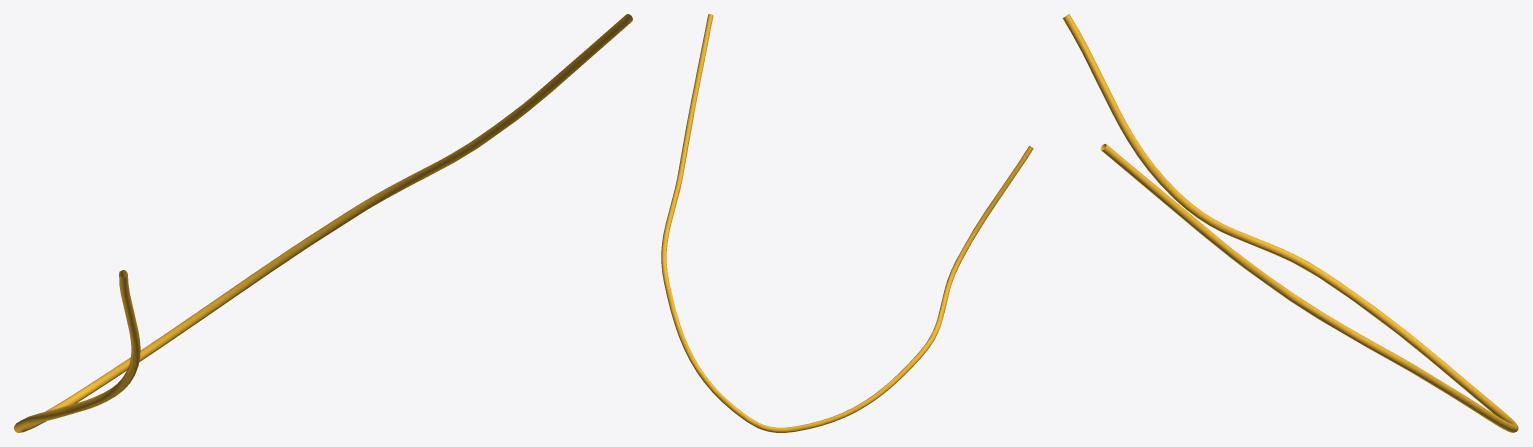
The model's file is nervoso-superior-lateral-brachial-cutaneous-nerve-l.glb.
3 views of the same model, side by side, from view 1: azimuth 30°, elevation 25°; view 2: azimuth 150°, elevation 25°; view 3: azimuth 270°, elevation 25° (orthographic). The views are drawn at different scales.
Visible parts, largest first — view 1: Superior lateral brachial cutaneous nerve.l; view 2: Superior lateral brachial cutaneous nerve.l; view 3: Superior lateral brachial cutaneous nerve.l.
Boxes of the visible parts, <box> form: Superior lateral brachial cutaneous nerve.l: <box>14,14,632,432</box>; Superior lateral brachial cutaneous nerve.l: <box>661,14,1033,432</box>; Superior lateral brachial cutaneous nerve.l: <box>1062,14,1518,432</box>.
Size of the model in its own units: 0.0666 by 0.0561 by 0.0544.
